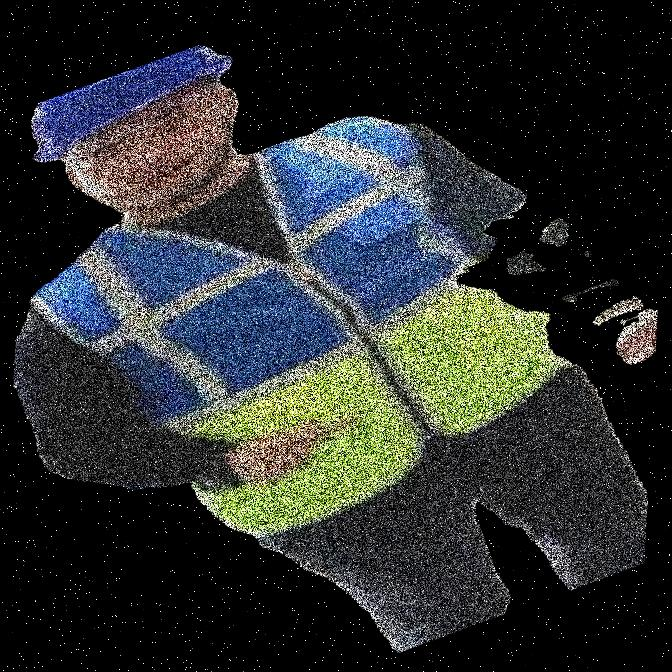Pessoa: (231, 0, 370, 671)
